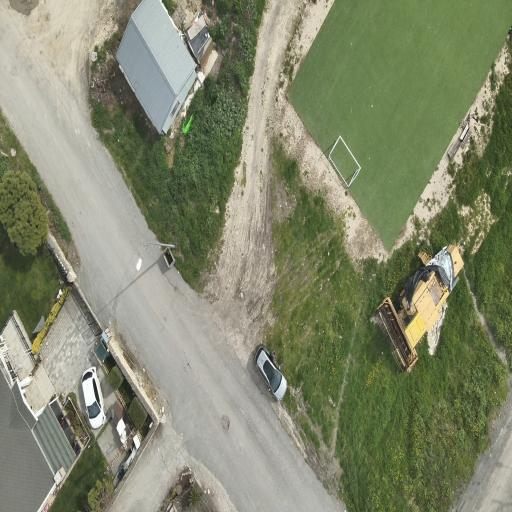car: (254, 345, 287, 400), (82, 367, 106, 429)
harvester: (376, 246, 463, 371)
person: (271, 350, 275, 361)
